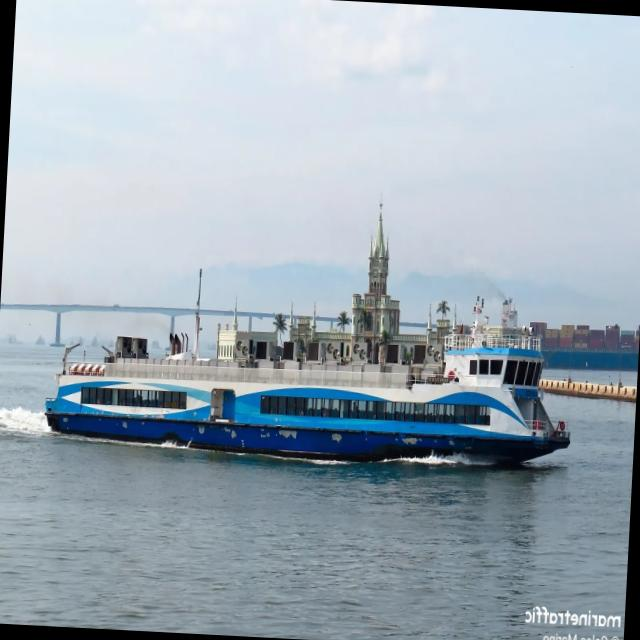Passenger: (46, 321, 570, 462)
